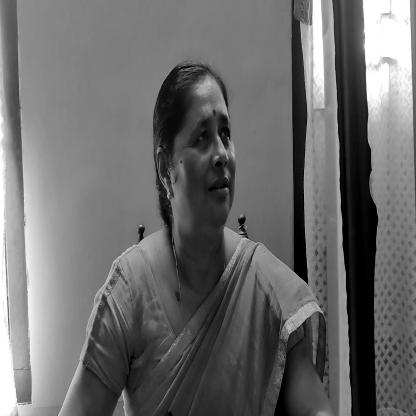Distracted: (150, 54, 242, 252)
